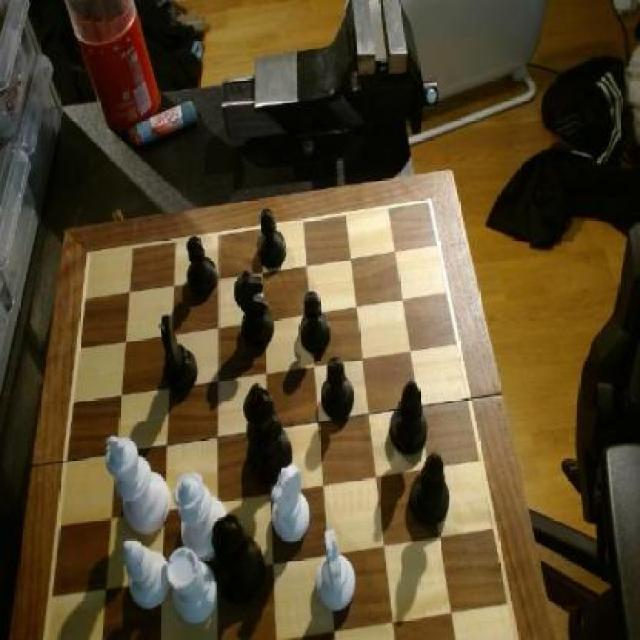bishop: (409, 451, 450, 536), (391, 378, 428, 460)
black-bishop: (241, 383, 297, 489)
black-king: (156, 312, 202, 396), (232, 271, 278, 348)
black-knight: (256, 206, 292, 274), (321, 354, 357, 421), (297, 291, 333, 356), (185, 236, 220, 300)
black-pawn: (210, 512, 268, 614)
black-rook: (121, 534, 172, 611)
white-bishop: (103, 432, 174, 538)
white-king: (315, 526, 360, 613), (269, 464, 314, 548)
white-pawn: (174, 472, 231, 563)
white-queen: (166, 546, 219, 628)
